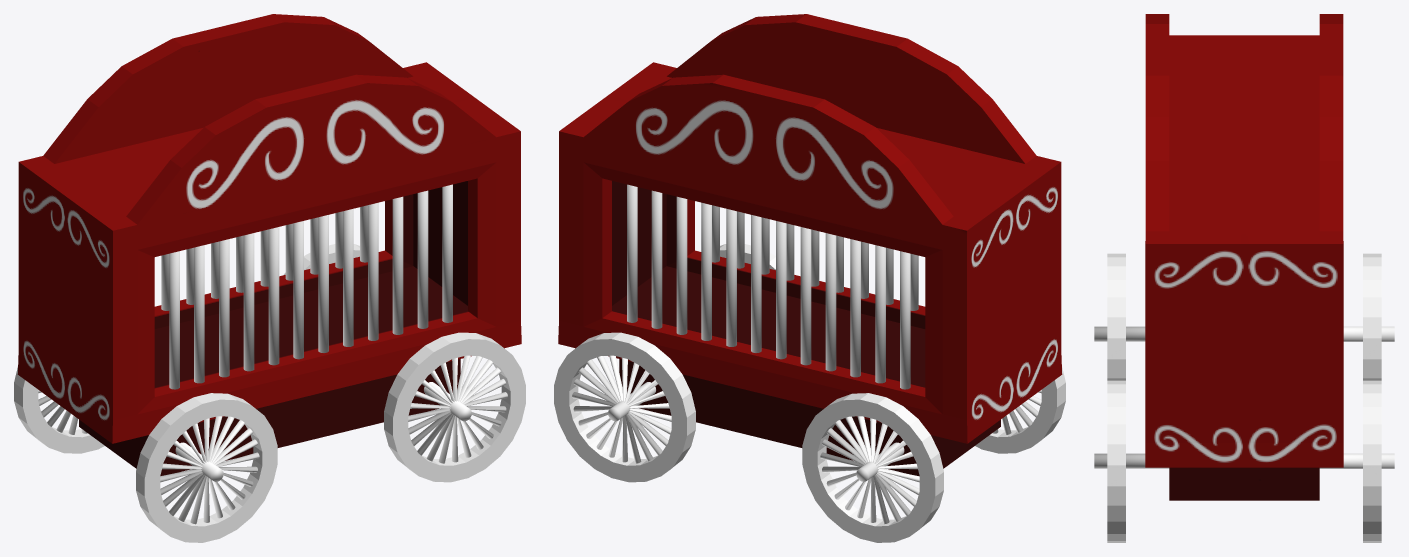
File: CircusCart.fbx
The picture shows the model from 3 angles, left to right: view 1: azimuth 30°, elevation 25°; view 2: azimuth 150°, elevation 25°; view 3: azimuth 270°, elevation 25°; orthographic projection. The views are drawn at different scales.
Parts seen in each view (by area): view 1: Cube, wheels, Kalterit2, Kalterit1, Cylinder; view 2: Cube, wheels, Kalterit1, Kalterit2, Cylinder; view 3: Cube, wheels, Cylinder.
Part boxes in pixels (x1,y1,x2,y2): Cube: [17, 14, 521, 475]; wheels: [14, 244, 525, 542]; Kalterit2: [169, 184, 452, 389]; Kalterit1: [161, 205, 367, 310]; Cylinder: [175, 382, 471, 481]; Cube: [558, 14, 1062, 476]; wheels: [554, 244, 1065, 542]; Kalterit1: [627, 184, 910, 389]; Kalterit2: [712, 205, 918, 310]; Cylinder: [608, 382, 904, 481]; Cube: [1145, 14, 1343, 500]; wheels: [1107, 253, 1381, 542]; Cylinder: [1094, 326, 1394, 468].
Bounding box in the file's own units: 660 × 619 × 400.
Materials: 2 (1 with a texture image).
